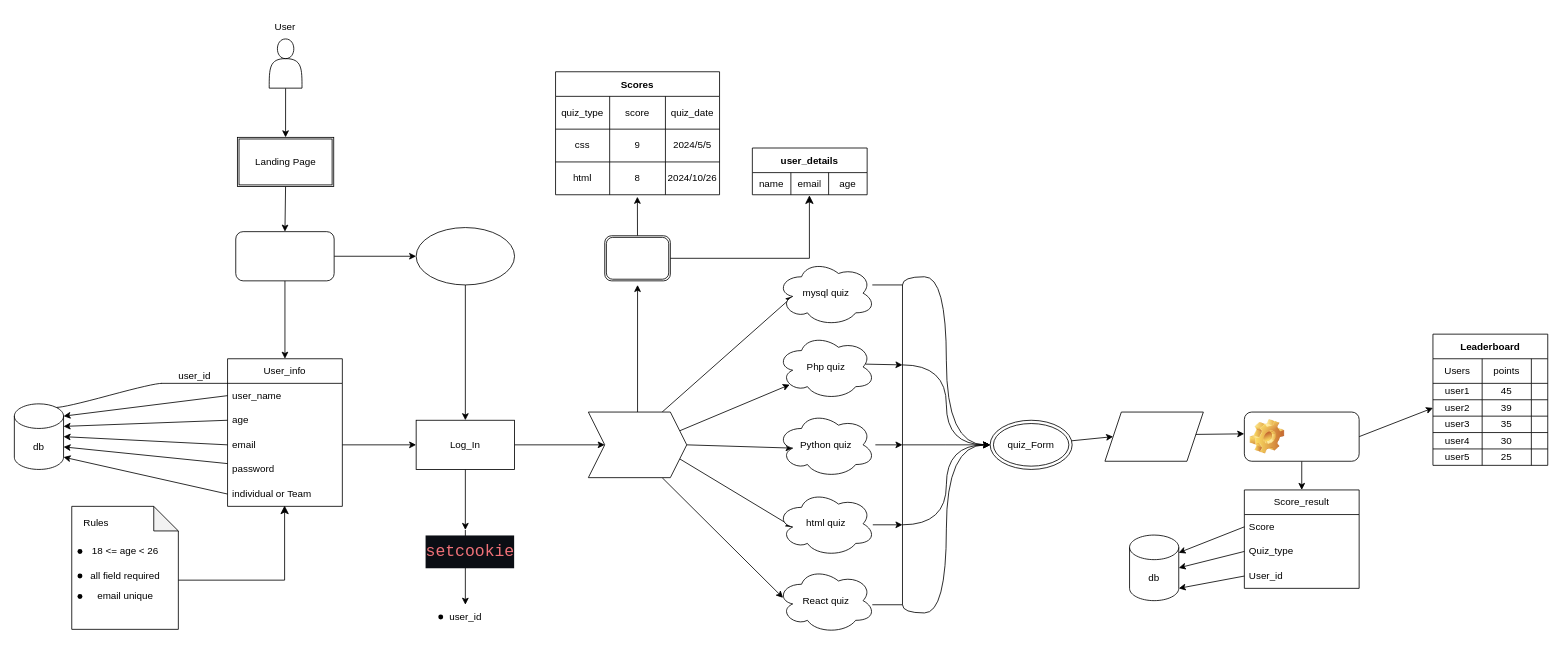
This 1562x648 diagram has some shape labels left out. The centre of each missing label's shape, as x and y in pixels:
"Create Account" belongs at pixel 284 256.
"Have an account ?" belongs at pixel 465 256.
"Home_page" belongs at pixel 637 444.
"Store_Score" belongs at pixel 1301 436.
"Submit" belongs at pixel 1153 436.
"User_profile" belongs at pixel 637 258.
